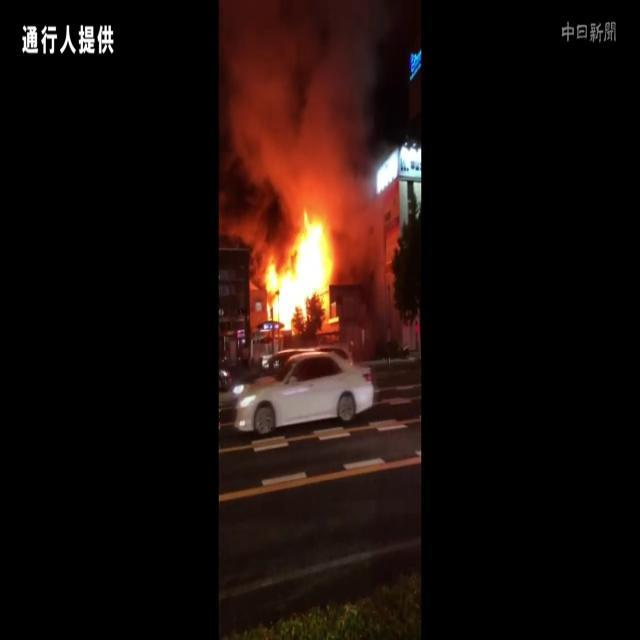Fire: (258, 200, 344, 336)
Smoke: (219, 0, 385, 222)
